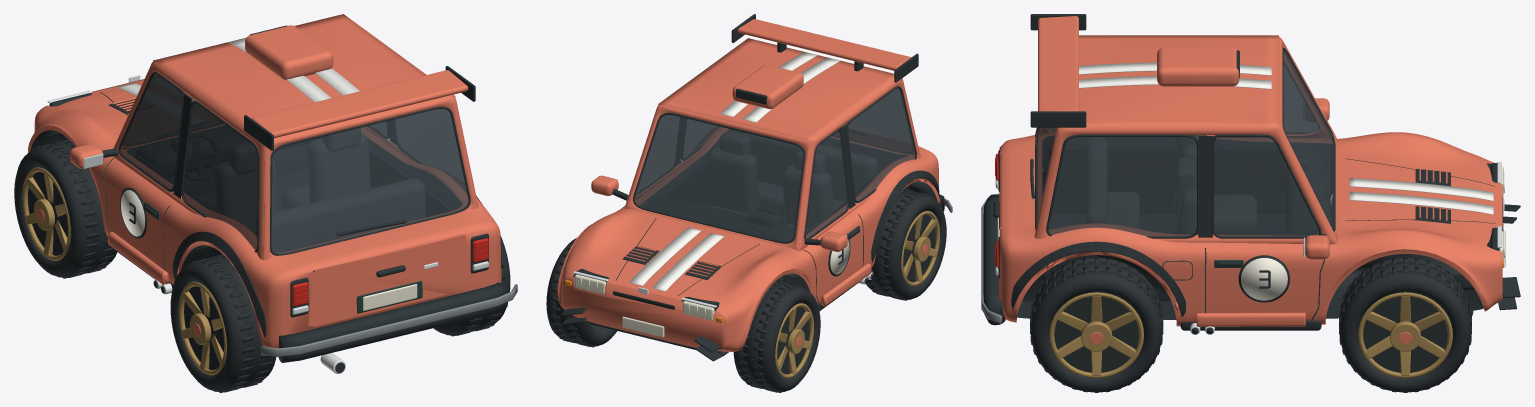
Rendered from kaminari.fbx.
3 renders of one model, left to right at view 1: azimuth 30°, elevation 25°; view 2: azimuth 150°, elevation 25°; view 3: azimuth 270°, elevation 25°, orthographic. The views are drawn at different scales.
Parts seen in each view (by area): view 1: Body, Wheel_RL_Mesh, Wheel_FL_Mesh, Wheel_RR_Mesh; view 2: Body, Wheel_FL_Mesh, Wheel_RL_Mesh, Wheel_FR_Mesh; view 3: Body, Wheel_RR_Mesh, Wheel_FR_Mesh.
Part boxes in pixels (x1,y1,x2,y2): Body: (28,14,517,373); Wheel_RL_Mesh: (170,254,276,392); Wheel_FL_Mesh: (14,139,117,278); Wheel_RR_Mesh: (433,236,510,336); Body: (557,14,952,361); Wheel_FL_Mesh: (733,281,820,392); Wheel_RL_Mesh: (866,189,946,300); Wheel_FR_Mesh: (546,238,617,347); Body: (981,14,1520,334); Wheel_RR_Mesh: (1030,257,1163,392); Wheel_FR_Mesh: (1339,257,1471,392).
Bounding box in the file's own units: 240 × 204 × 367.
